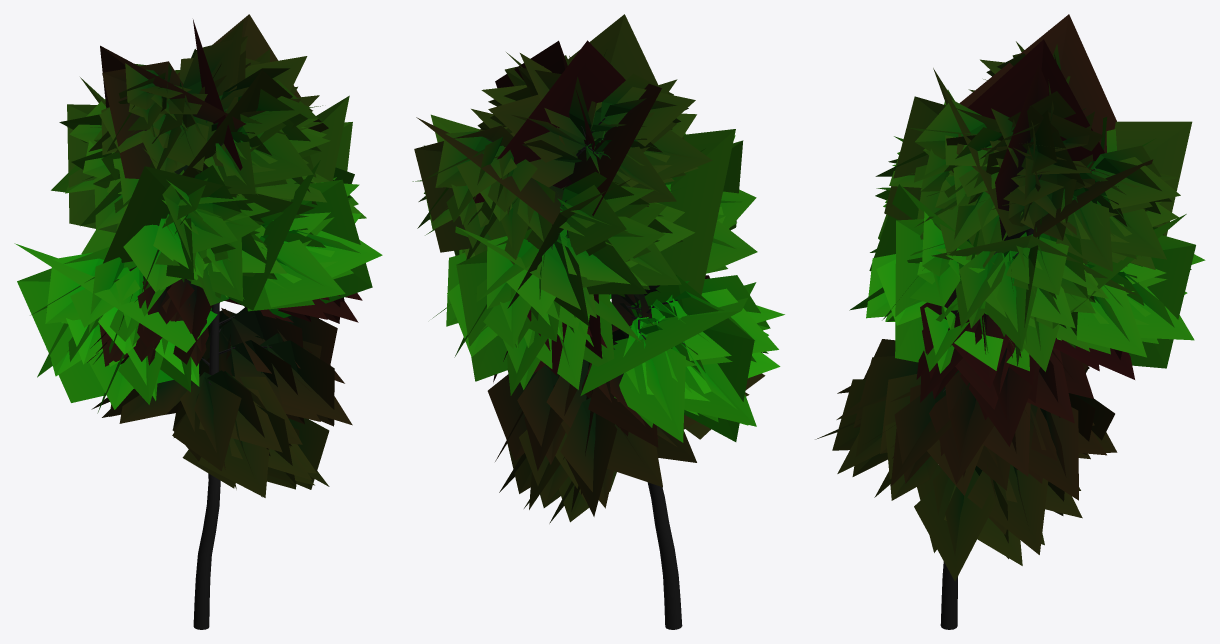
Rendered from birch_tree_10.FBX.
3 views of the same model, side by side, from view 1: azimuth 30°, elevation 25°; view 2: azimuth 150°, elevation 25°; view 3: azimuth 270°, elevation 25° (orthographic). The views are drawn at different scales.
Parts seen in each view (by area): view 1: birch_leaves_lod_0, birch_leaves_shadow, birch_trunk_lod_0; view 2: birch_leaves_lod_0, birch_leaves_shadow, birch_trunk_lod_0; view 3: birch_leaves_lod_0, birch_leaves_shadow, birch_trunk_lod_0.
Part boxes in pixels (box(x1,y1,x2,y2)): birch_leaves_lod_0: box(30, 21, 382, 497); birch_leaves_shadow: box(14, 14, 372, 402); birch_trunk_lod_0: box(193, 302, 220, 629); birch_leaves_lod_0: box(412, 50, 784, 523); birch_leaves_shadow: box(414, 14, 756, 441); birch_trunk_lod_0: box(647, 482, 682, 629); birch_leaves_lod_0: box(815, 41, 1205, 581); birch_leaves_shadow: box(869, 14, 1195, 368); birch_trunk_lod_0: box(940, 228, 1033, 629).
Size of what is drawn, in the model's own units: 3.63 by 6.02 by 3.53.
